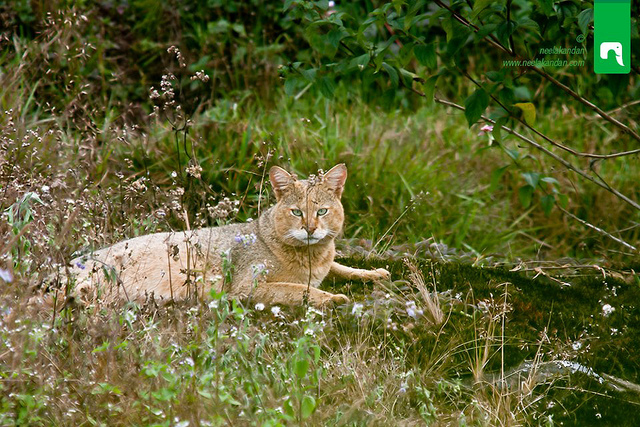cat: (68, 146, 408, 325)
